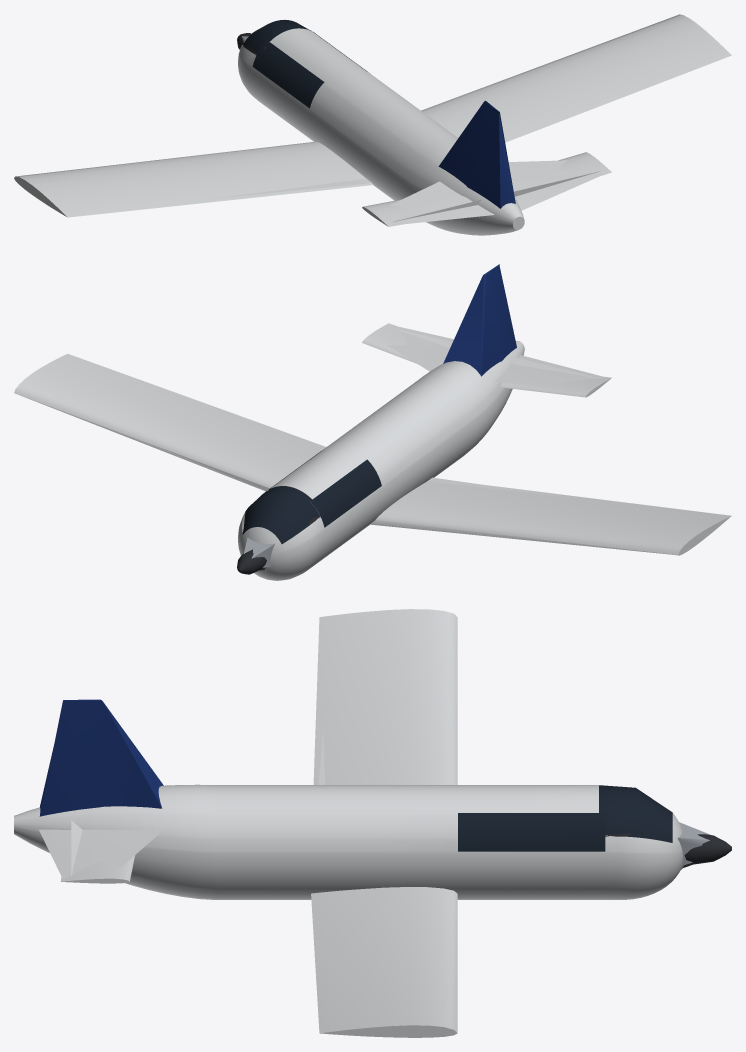
Rendered from lat_light_low.dae.
3 views of the same model, one above another, from view 1: azimuth 30°, elevation 25°; view 2: azimuth 150°, elevation 25°; view 3: azimuth 270°, elevation 25° (orthographic). The views are drawn at different scales.
Visible parts, largest first — view 1: lat_light_low150, lat_light_low1, lat_light_low32; view 2: lat_light_low150, lat_light_low1, lat_light_low32; view 3: lat_light_low150, lat_light_low1, lat_light_low32.
Boxes of the visible parts, x1,y1,x2,y2 form: lat_light_low150: (14,14,731,235); lat_light_low1: (211,36,605,225); lat_light_low32: (15,46,599,234); lat_light_low150: (14,323,731,580); lat_light_low1: (243,264,606,567); lat_light_low32: (22,328,730,571); lat_light_low150: (14,609,731,1037); lat_light_low1: (39,699,710,878); lat_light_low32: (71,786,694,1037).
Size of the model in its own units: 10.7 by 7.8 by 2.34.
